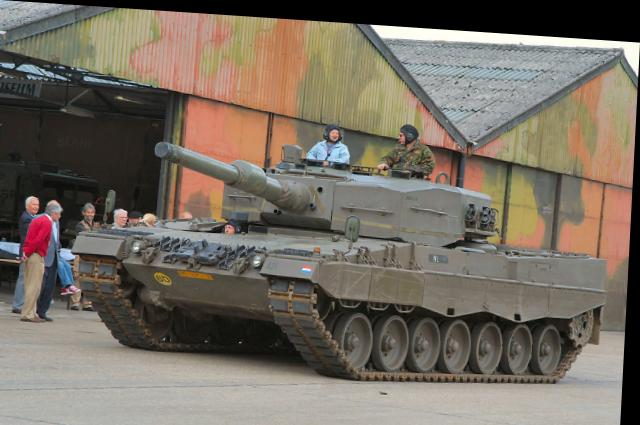other: (387, 107, 436, 168), (304, 110, 350, 174)
tank: (64, 126, 621, 397)
